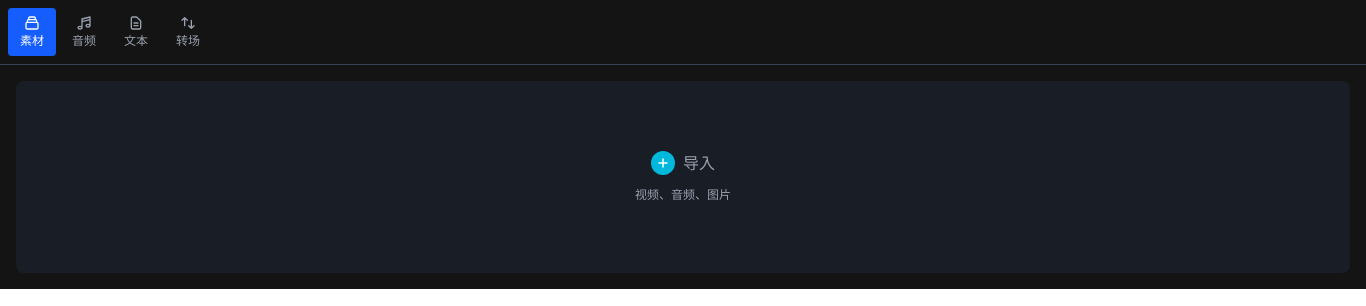
Test case: MediaLibrary › 6.1.3 测试标签页切换 › should switch to 音频 tab when clicked
Click the button "音频" at point(84, 32), box [60,8,108,56]
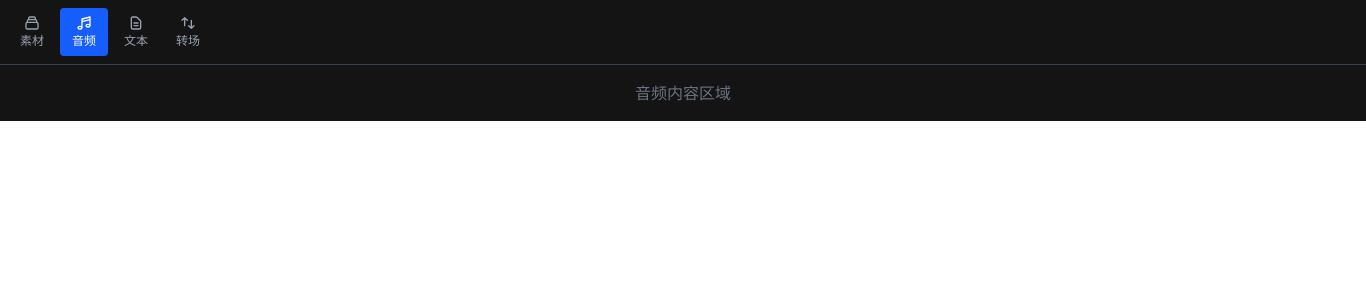
Expected: the text "音频内容区域" is shown, [635,81,731,105]
